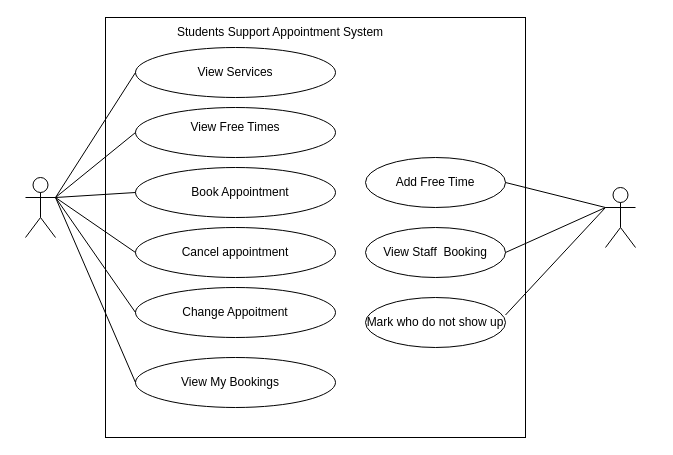
Some shapes in this 673 by 455 pixel diagram are drawn without their labels. Each missing label, with the centre of its shape:
Studnets: (40,207)
Support Staff: (620,217)
